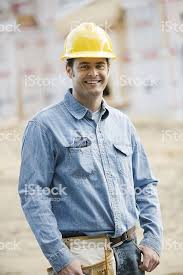Person_wearing_helmet: (61, 15, 120, 73)
